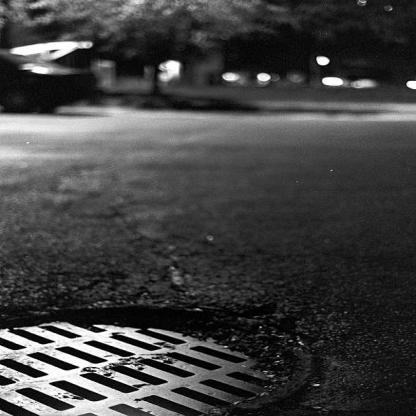manholes: (1, 290, 327, 414)
